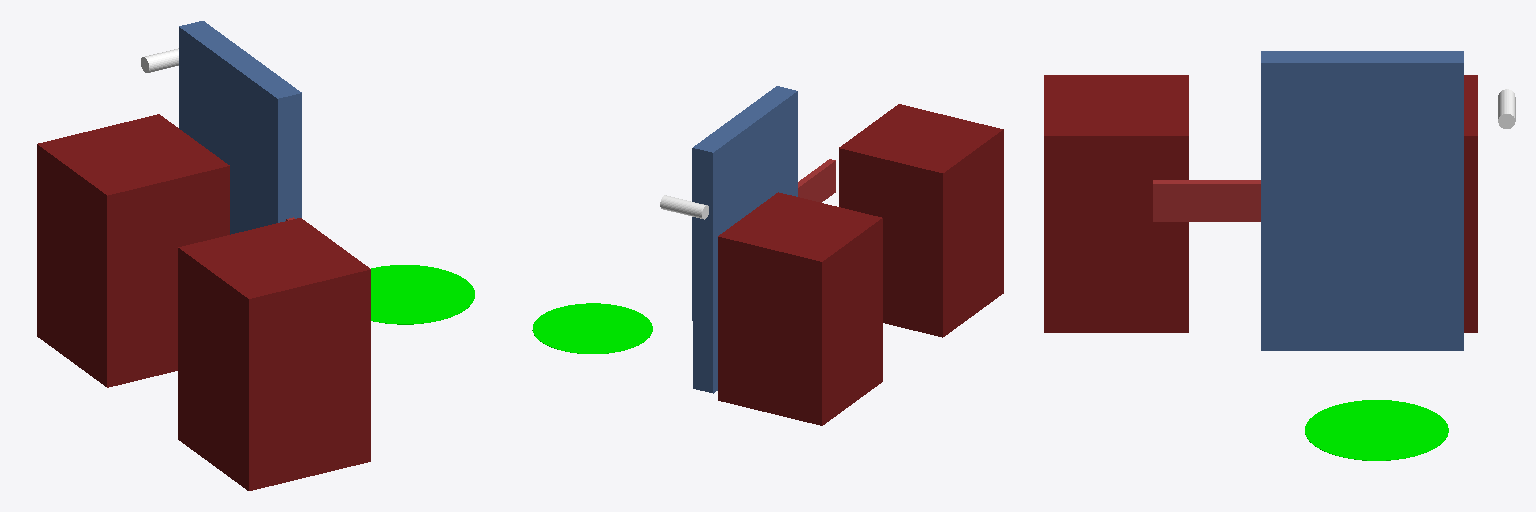
URDF robot description (room0):
<robot name="room0">
    <link name="base_link"/>

    <link name="room">
      <visual>
        <geometry>
          <mesh filename="[local-path]/rb_ws/robowflex/robowflex_dart/include/io/envs/room0/meshes/room.dae" scale=" 0.4 0.4 0.3"/>
        </geometry>
        <origin rpy="0 0 0" xyz="0 0 0"/>
      <material name="">
        <color rgba="0.94901960784 0.94901960784 0.94901960784 1"/>
      </material>
      </visual>

      <collision>
        <geometry>
          <mesh filename="[local-path]/rb_ws/robowflex/robowflex_dart/include/io/envs/room0/meshes/room.dae" scale=" 0.4 0.4 0.3"/>
        </geometry>
        <origin rpy="0 0 0" xyz="0 0 0"/>       
       </collision>
    </link>


        <link name="shelf">
      <visual>
        <geometry>
          <mesh filename="[local-path]/rb_ws/robowflex/robowflex_dart/include/io/envs/room0/meshes/shelf.dae" scale="0.042 0.05 0.04"/>
        </geometry>
        <origin rpy="0 0 0" xyz="0 0 0"/>
      
      <material name="">
        <color rgba="0.729411 0.549019 0.388235 1"/>
      </material>

      </visual>
      <collision>
        <geometry>
          <mesh filename="[local-path]/rb_ws/robowflex/robowflex_dart/include/io/envs/room0/meshes/shelf.dae" scale="0.042 0.05 0.04"/>
        </geometry>
        <origin rpy="0 0 0" xyz="0 0 0"/>       
       </collision>
    </link>


    <link name="desk">
      <visual>
        <geometry>
          <mesh filename="[local-path]/rb_ws/robowflex/robowflex_dart/include/io/envs/room0/meshes/desk2.dae" scale="0.01 0.01 0.020"/>
        </geometry>
        <origin rpy="0 0 0" xyz="0 0 0"/>
      
    <material name="">
        <color rgba="0.729411 0.549019 0.388235 1"/>
      </material>

      </visual>
      <collision>
        <geometry>
          <mesh filename="[local-path]/rb_ws/robowflex/robowflex_dart/include/io/envs/room0/meshes/desk2.dae" scale="0.01 0.01 0.020"/>
        </geometry>
        <origin rpy="0 0 0" xyz="0 0 0"/>       
       </collision>
    </link>



    <link name="sofa">
      <visual>
        <geometry>
          <mesh filename="[local-path]/rb_ws/robowflex/robowflex_dart/include/io/envs/room0/meshes/sofa.dae" scale="0.7 0.7 1"/>
        </geometry>
        <origin rpy="0 0 0" xyz="0 0 0"/>
      
      <material name="">
        <color rgba="0.70196 0.8 1 1"/>
      </material>

      </visual>
      <collision>
        <geometry>
          <mesh filename="[local-path]/rb_ws/robowflex/robowflex_dart/include/io/envs/room0/meshes/sofa.dae" scale="0.7 0.7 1"/>
        </geometry>
        <origin rpy="0 0 0" xyz="0 0 0"/>       
       </collision>
    </link>

    <link name="link_0_joint_0">
      <visual>
        <geometry>
          <box size="0.5 0.5 0.75"/>
        </geometry>
        <origin rpy="0 0 0" xyz="0 0 0"/>
          <material name="">
          <color rgba="0.541176 0.156862 0.156862 1.0"/>
      </material>
      </visual>
      <collision>
        <geometry>
          <box size="0.5 0.5 0.75"/>
        </geometry>
        <origin rpy="0 0 0" xyz="0 0 0"/>      
       </collision>
    </link>


    <link name="link_1_joint_0">
      <visual>
        <geometry>
          <box size="0.5 0.5 0.75"/>
        </geometry>
        <origin rpy="0 0 0" xyz="0 0 0"/>
       <material name="">
          <color rgba="0.541176 0.156862 0.156862 1.0"/>
      </material>
      </visual>
      <collision>
        <geometry>
          <box size="0.5 0.5 0.75"/>
        </geometry>
        <origin rpy="0 0 0" xyz="0 0 0"/>      
       </collision>
    </link>

     <link name="link_2_joint_0">
     <visual>
        <geometry>
          <box size="1.1 0.7 0.1"/>
        </geometry>
        <origin rpy="0 -1.57 0" xyz="0.0 0.35 0"/>
        <material name="">
          <color rgba="0.349019 0.470588 0.650980 1.0"/>
      </material>
      </visual>
      <collision>
        <geometry>
          <box size="1.1 0.7 0.1"/>
        </geometry>
        <origin rpy="0 -1.57 0" xyz="0.0 0.35 0"/>     
       </collision>
    </link>


     <link name="lock_part">
      <visual>
        <geometry>
          <cylinder radius="0.03" length="0.2"/>
        </geometry>
             <material name="">
          <color rgba="1 1 1 1.0"/>
      </material>
      </visual>
    </link>


     <link name="link_3_joint_0">
      <visual>
        <geometry>
          <box size="0.03 0.45 0.146"/>
        </geometry>
      <origin rpy="0 0 0" xyz="0 -0.15 0"/>
             <material name="">
          <color rgba="0.6901 0.2509 0.2509 1.0"/>
      </material>
      </visual>
      <collision>       
        <geometry>
          <box size="0.03 0.45 0.146"/>
        </geometry>
      <origin rpy="0 0 0" xyz="0 -0.15 0"/>
       </collision>
    </link>


<link name="cube1_y_axis"/>
<link name="cube2_y_axis"/>


  <joint name="link_0_joint_0" type="prismatic">
      <origin rpy="0 0 0" xyz="0.95 0.1 0.375"/>
      <parent link="base_link"/>
      <child link="cube1_y_axis"/>
      <axis xyz="0 1 0"/>
      <limit lower="-1.10" upper="0.96" effort="0.05" velocity="1.57"/>
  </joint>


  <joint name="link_0_joint_1" type="prismatic">
      <origin rpy="0 0 0" xyz="0 0 0"/>
      <parent link="cube1_y_axis"/>
      <child link="link_0_joint_0"/>
      <axis xyz="1 0 0"/>
      <limit lower="-1.5" upper="0.05" effort="0.05" velocity="1.57"/>
  </joint>



  <joint name="link_1_joint_0" type="prismatic">
      <origin rpy="0 0 0" xyz="0.95 -0.9 0.375"/>
      <parent link="base_link"/>
      <child link="cube2_y_axis"/>
      <axis xyz="0 1 0"/>
      <limit lower="-0.1" upper="1.90" effort="0.05" velocity="1.57"/>
  </joint>


  <joint name="link_1_joint_1" type="prismatic">
      <origin rpy="0 0 0" xyz="0 0 0"/>
      <parent link="cube2_y_axis"/>
      <child link="link_1_joint_0"/>
      <axis xyz="1 0 0"/>
      <limit lower="-1.5" upper="0.05" effort="0.05" velocity="1.57"/>
  </joint>


  <joint name="link_2_joint_0" type="revolute">
      <origin rpy="0 0 0" xyz="1.30 -0.4 0.55"/>
      <parent link="base_link"/>
      <child link="link_2_joint_0"/>
      <axis xyz="0 0 1"/>
      <limit lower="0.0" upper="1.57" effort="0.05" velocity="1.57"/>
  </joint>



 <joint name="link_3_joint_0" type="revolute">
      <origin rpy="0 0 0" xyz="1.30 -0.4 0.55"/>
      <parent link="base_link"/>
      <child link="link_3_joint_0"/>
      <axis xyz="1 0 0"/>
      <limit lower="0" upper="1.57" effort="0.05" velocity="1.57"/>
  </joint>



  <joint name="desk_joint" type="fixed">
      <origin rpy="0 0 1.57" xyz="0.30 0.6 0.0"/>
      <parent link="base_link"/>
      <child link="desk"/>
      <axis xyz="0 0 1"/>
  </joint>


<joint name="room_j" type="fixed">
    <origin rpy="0 0 -1.57" xyz="0 0 0.0"/>
    <parent link="base_link"/>
    <child link="room"/>
    <axis xyz="0 1 0"/>
  </joint>

<joint name="shelf_j" type="fixed">
    <origin rpy="0 0 -1.57" xyz="1.1 0.9 0.0"/>
    <parent link="base_link"/>
    <child link="shelf"/>
    <axis xyz="0 1 0"/>
  </joint>


  <joint name="lock_part_j" type="fixed">
    <origin rpy="0 1.57 0" xyz="1.3 0.45 0.9"/>
      <parent link="base_link"/>
      <child link="lock_part"/>
      <axis xyz="0.0 0.0 1"/>
  </joint>

<joint name="sofa_joint" type="fixed">
        <origin rpy="0 0 1.57" xyz="-0.90 -0.2 0.0"/>
        <parent link="base_link"/>
        <child link="sofa"/>
        <axis xyz="0 0 1"/>
        <limit lower="-1.57" upper="1.57" effort="0.05" velocity="1.57"/>
    </joint>


  <link name="goal">
    <visual>
         <origin xyz="0 0 0" rpy="0 0 0"/>
        <geometry>
          <cylinder radius="0.25" length="0.001"/>
        </geometry>
        <material name="">
          <color rgba="0 1 0 1.0"/>
        </material>
      </visual>
</link>

<joint name="goal" type="fixed">
  <origin rpy="0 0 0" xyz="2.0 0.0 0.0"/>
  <parent link="base_link"/>
    <child link="goal"/>
</joint>



</robot>

--- What the picture shows (computed from the rendered views, not written in the file) ---
3 views of the same robot in one strip: view 1: azimuth 30°, elevation 25°; view 2: azimuth 150°, elevation 25°; view 3: azimuth 270°, elevation 25° (orthographic).
Model room0 with 13 links and 12 joints (2 revolute, 4 prismatic, 6 fixed), rooted at base_link, posed every joint at zero.
Links seen in each view (by area): view 1: link_1_joint_0, link_0_joint_0, link_2_joint_0, goal, lock_part; view 2: link_0_joint_0, link_1_joint_0, link_2_joint_0, goal, link_3_joint_0, lock_part; view 3: link_2_joint_0, link_1_joint_0, goal, link_3_joint_0, link_0_joint_0, lock_part.
Boxes of the visible links, left/top/right/bottom form: link_1_joint_0: left=178, top=218, right=370, bottom=490; link_0_joint_0: left=37, top=114, right=229, bottom=387; link_2_joint_0: left=179, top=21, right=301, bottom=234; goal: left=371, top=265, right=474, bottom=324; lock_part: left=141, top=48, right=178, bottom=72; link_0_joint_0: left=718, top=192, right=882, bottom=425; link_1_joint_0: left=839, top=104, right=1003, bottom=337; link_2_joint_0: left=692, top=86, right=797, bottom=393; goal: left=532, top=303, right=652, bottom=353; link_3_joint_0: left=798, top=159, right=835, bottom=202; lock_part: left=660, top=195, right=708, bottom=219; link_2_joint_0: left=1261, top=51, right=1463, bottom=350; link_1_joint_0: left=1044, top=75, right=1188, bottom=332; goal: left=1305, top=400, right=1448, bottom=460; link_3_joint_0: left=1153, top=180, right=1260, bottom=221; link_0_joint_0: left=1464, top=75, right=1477, bottom=332; lock_part: left=1498, top=89, right=1515, bottom=128.
Bounding box of the posed robot: 1.55 × 1.63 × 1.1 m (x, y, z).
Geometry: only primitive shapes (box / cylinder / sphere) drawn; not drawn: 4 mesh visuals (reference in a form the renderer does not follow).